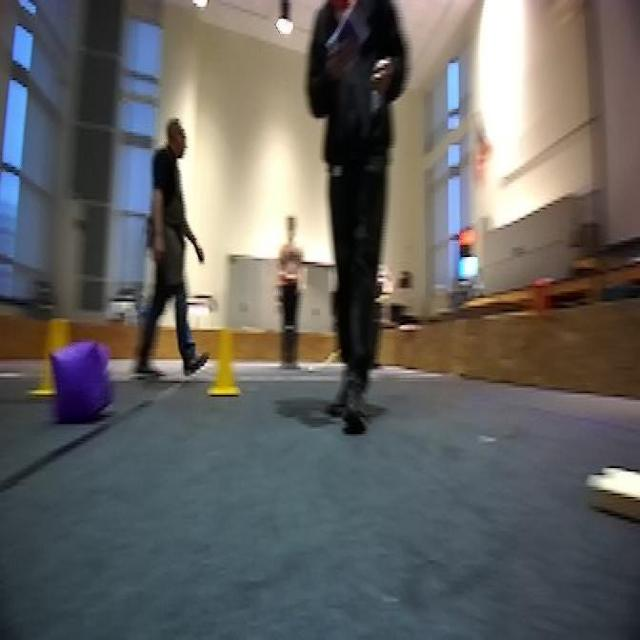frc_cone: (31, 312, 70, 404), (210, 324, 240, 398)
frc_cube: (43, 340, 98, 436)
